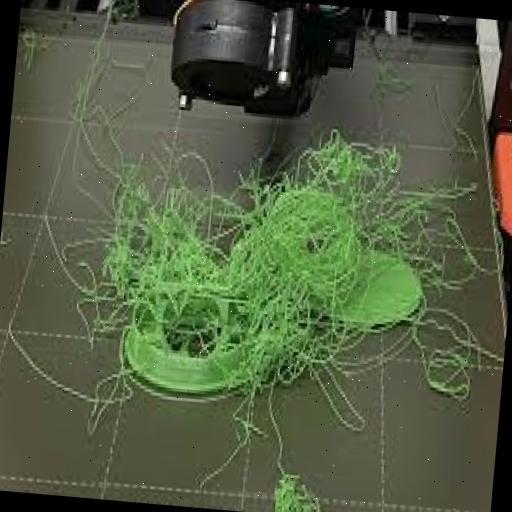spaghetti: (103, 85, 476, 489)
